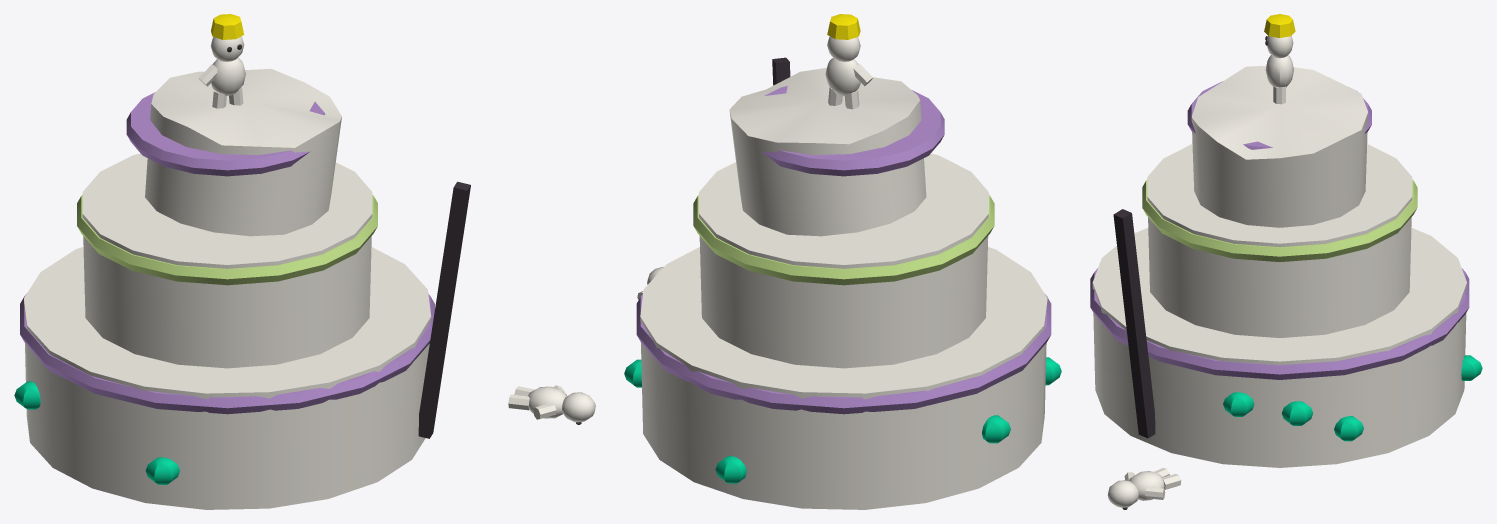
File: TW_CrackedWeddingCake.fbx
The picture shows the model from 3 angles, left to right: view 1: azimuth 30°, elevation 25°; view 2: azimuth 150°, elevation 25°; view 3: azimuth 270°, elevation 25°; orthographic projection. The views are drawn at different scales.
Visible parts, largest first — view 1: Body, Part_FallenDoll; view 2: Body; view 3: Body, Part_FallenDoll.
Boxes of the visible parts, bbox=[...] form: Body: bbox=[14, 14, 470, 509]; Part_FallenDoll: bbox=[508, 385, 595, 424]; Body: bbox=[624, 14, 1061, 509]; Body: bbox=[1090, 14, 1482, 467]; Part_FallenDoll: bbox=[1107, 468, 1181, 509].
Size of the model in its own units: 3.73 by 3.12 by 2.98.
